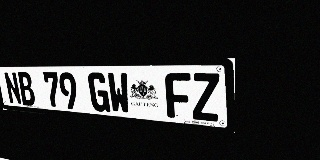7: (42, 72, 63, 108)
9: (58, 72, 80, 110)
B: (16, 72, 36, 106)
F: (165, 73, 192, 119)
G: (87, 72, 111, 112)
N: (3, 72, 22, 105)
W: (107, 72, 131, 114)
Z: (191, 73, 220, 122)
